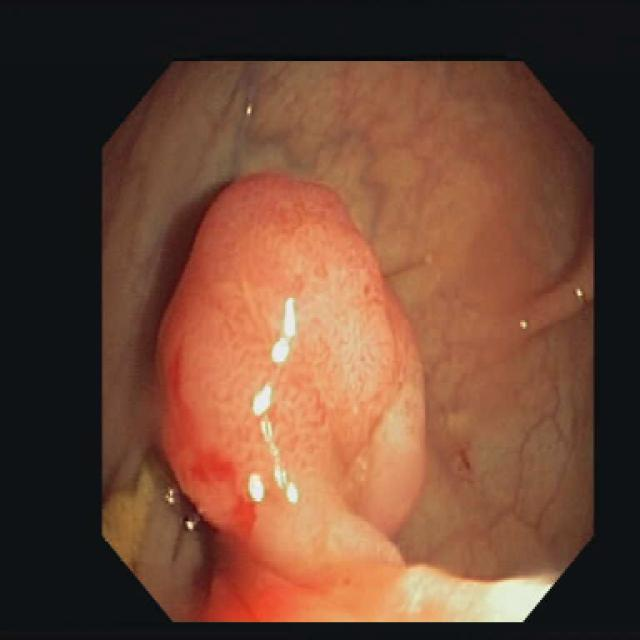tumor: (158, 171, 428, 616)
